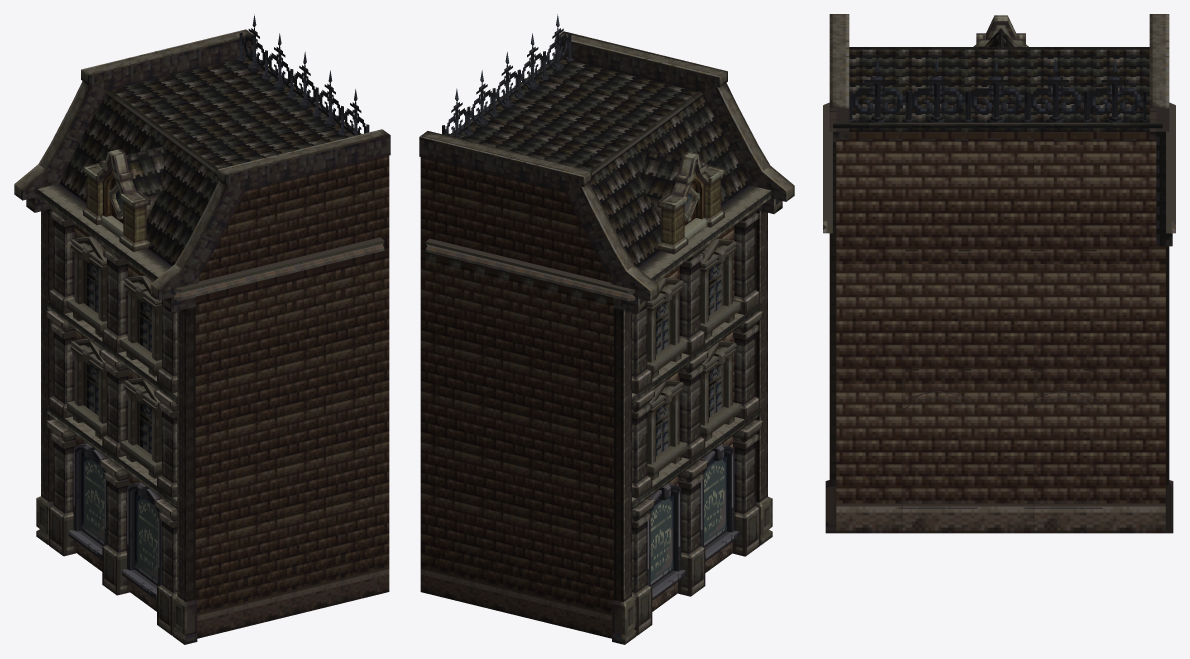
File: EnvBdgMD_City_B_Outdoor_L_C_Redwall_B.FBX
3 views of the same model, side by side, from view 1: azimuth 30°, elevation 25°; view 2: azimuth 150°, elevation 25°; view 3: azimuth 270°, elevation 25° (orthographic). The views are drawn at different scales.
Visible parts, largest first — view 1: EnvBdgMD_City_B_Outdoor_L_C_Redwall_B; view 2: EnvBdgMD_City_B_Outdoor_L_C_Redwall_B; view 3: EnvBdgMD_City_B_Outdoor_L_C_Redwall_B.
Part boxes in pixels (left/top/right/bottom): EnvBdgMD_City_B_Outdoor_L_C_Redwall_B: left=14, top=14, right=390, bottom=644; EnvBdgMD_City_B_Outdoor_L_C_Redwall_B: left=419, top=14, right=794, bottom=644; EnvBdgMD_City_B_Outdoor_L_C_Redwall_B: left=823, top=14, right=1175, bottom=533.
Bounding box in the file's own units: 476 × 968 × 535.
1 material, 1 textured.
